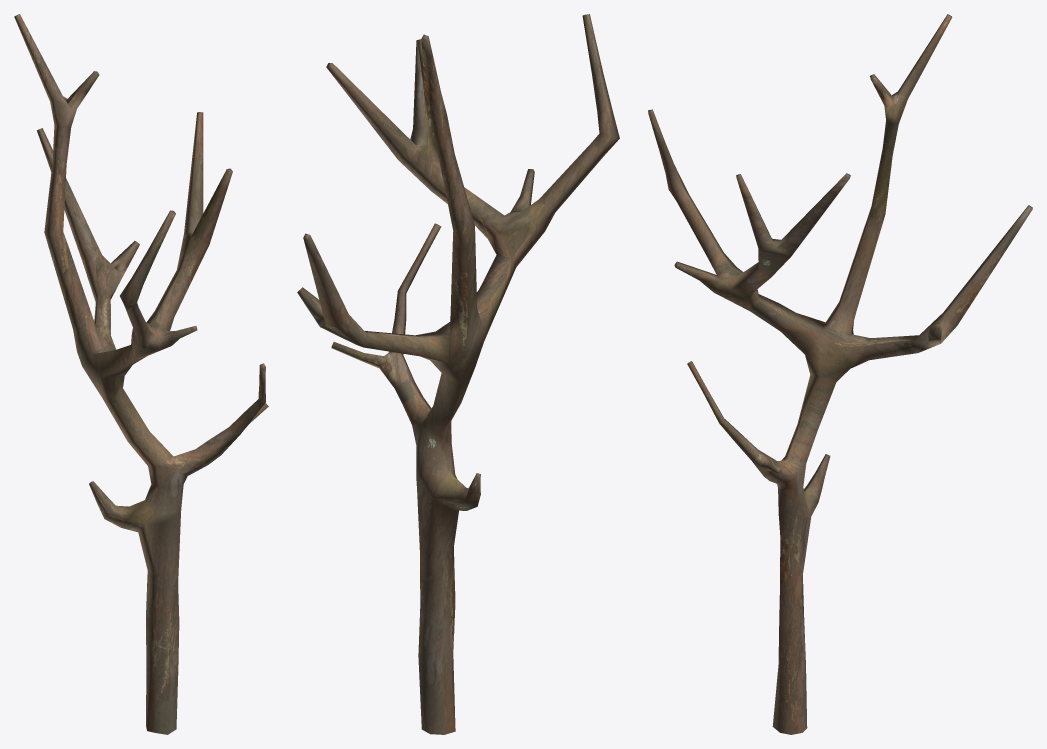
3 views of the same model, side by side, from view 1: azimuth 30°, elevation 25°; view 2: azimuth 150°, elevation 25°; view 3: azimuth 270°, elevation 25° (orthographic). The views are drawn at different scales.
Parts seen in each view (by area): view 1: 나무; view 2: 나무; view 3: 나무.
Part boxes in pixels (x1=…): 나무: x1=14, y1=14, x2=268, y2=734; 나무: x1=297, y1=14, x2=619, y2=734; 나무: x1=648, y1=14, x2=1032, y2=734.
Bounding box in the file's own units: 383 × 1255 × 642.
1 material, 1 textured.
